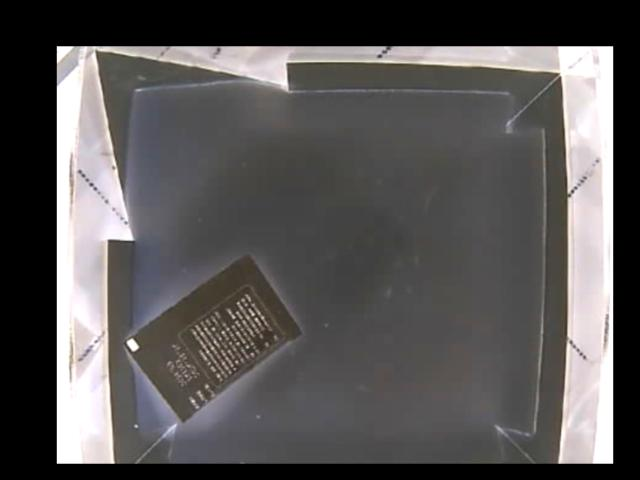Medicine: (124, 255, 301, 424)
